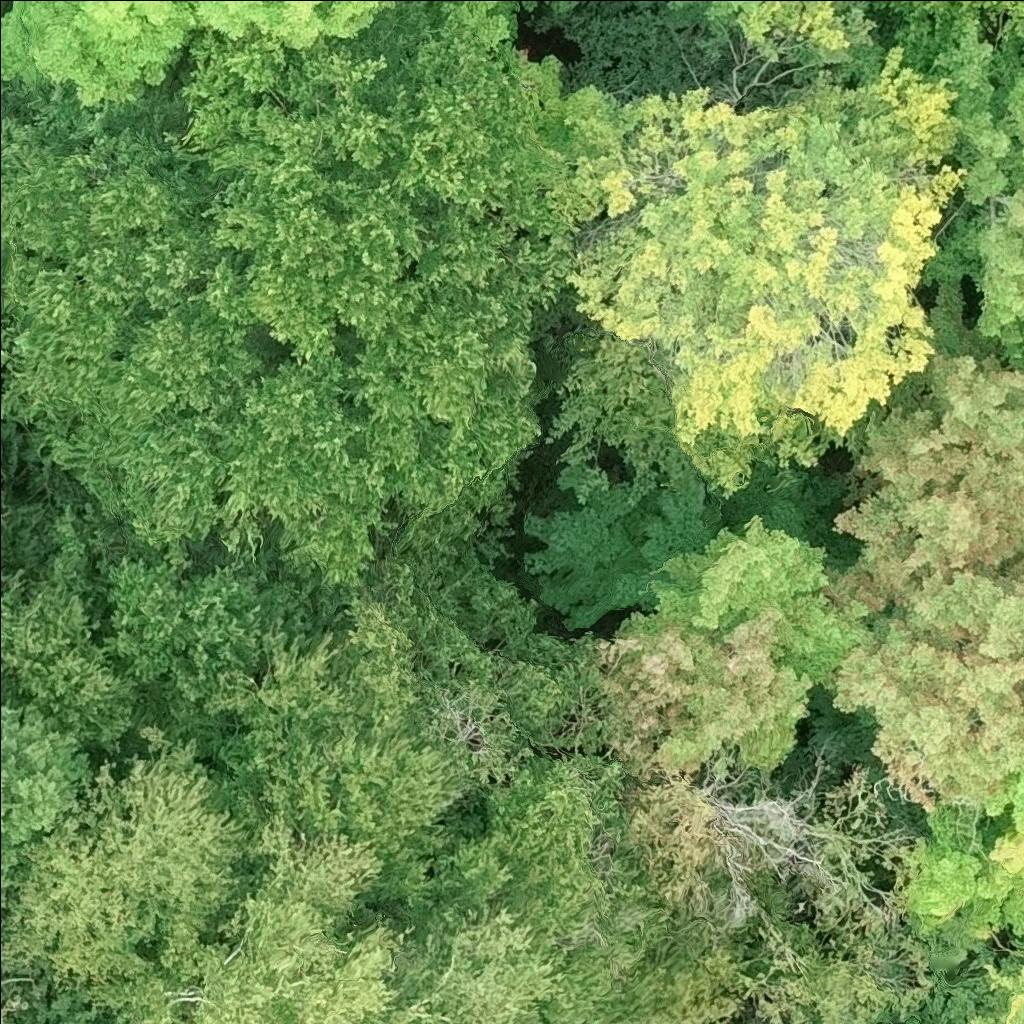crown: (0, 0, 575, 585), (491, 0, 967, 497), (198, 547, 597, 928), (0, 723, 440, 1023), (608, 746, 944, 1023), (387, 758, 664, 1023), (822, 349, 1023, 622), (106, 541, 321, 767), (623, 514, 875, 686), (832, 616, 1023, 819), (0, 494, 142, 767), (597, 608, 816, 783), (921, 24, 1023, 364), (0, 0, 199, 111), (908, 769, 1023, 939), (0, 701, 91, 909), (887, 560, 1023, 659), (194, 0, 403, 52), (875, 0, 1023, 70), (406, 0, 539, 56), (921, 954, 1023, 1023), (630, 0, 767, 22), (0, 988, 31, 1023), (868, 1009, 902, 1023), (544, 0, 579, 10), (0, 467, 3, 491)
